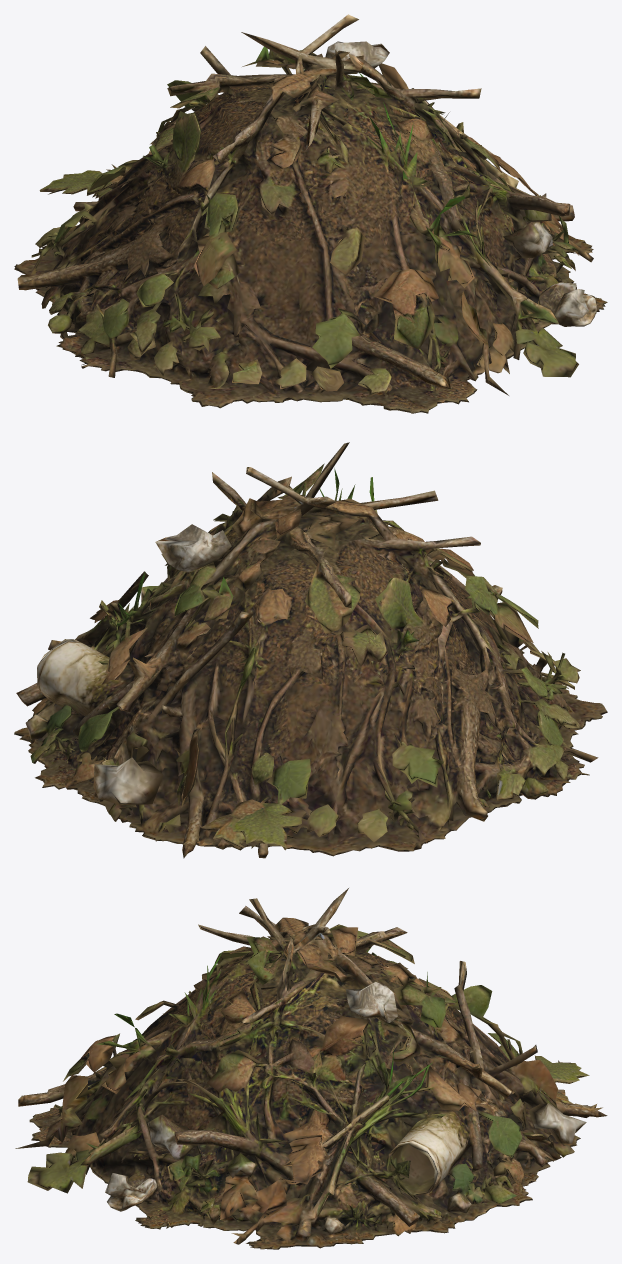
File: fallen+leaves+pile+3d+model.glb
3 renders of one model, top to bottom at view 1: azimuth 30°, elevation 25°; view 2: azimuth 150°, elevation 25°; view 3: azimuth 270°, elevation 25°, orthographic. The views are drawn at different scales.
Parts seen in each view (by area): view 1: tripo_node_288638bd-36e2-4bad-aa84-f7f03acbe1a9; view 2: tripo_node_288638bd-36e2-4bad-aa84-f7f03acbe1a9; view 3: tripo_node_288638bd-36e2-4bad-aa84-f7f03acbe1a9.
Part boxes in pixels (bbox=[...]): tripo_node_288638bd-36e2-4bad-aa84-f7f03acbe1a9: bbox=[14, 14, 607, 413]; tripo_node_288638bd-36e2-4bad-aa84-f7f03acbe1a9: bbox=[14, 442, 607, 858]; tripo_node_288638bd-36e2-4bad-aa84-f7f03acbe1a9: bbox=[15, 888, 607, 1249].
Size of the model in its own units: 0.8781 by 0.4338 by 0.9787.
Materials: 1 (1 with a texture image).
